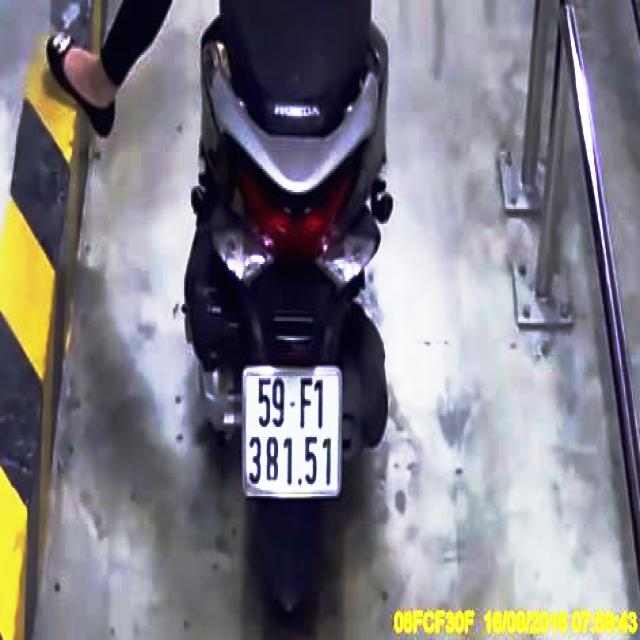license_plate: (245, 363, 341, 497)
